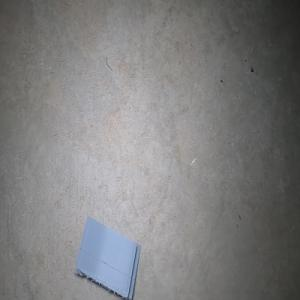PlasticPart: (73, 215, 140, 300)
